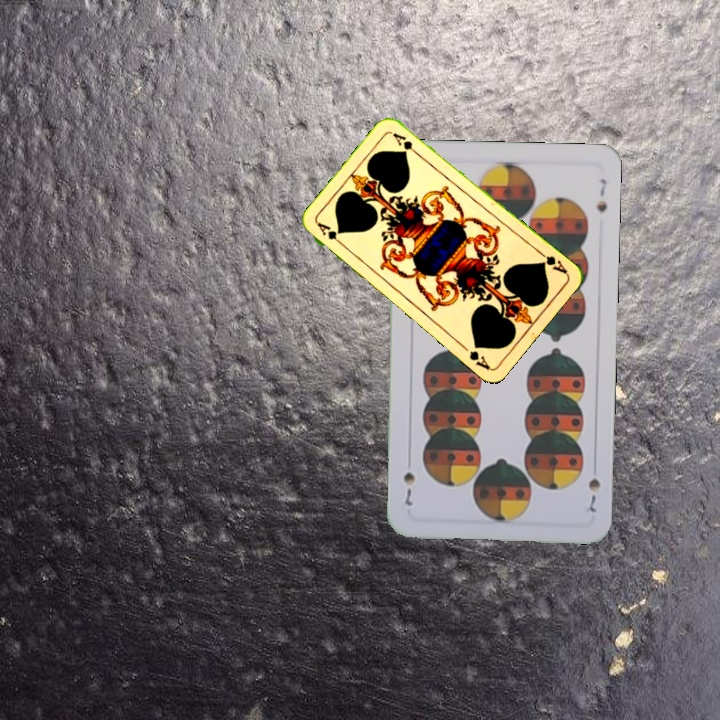GA: (534, 247, 570, 276), (313, 219, 347, 249)
S7: (581, 474, 603, 517)
